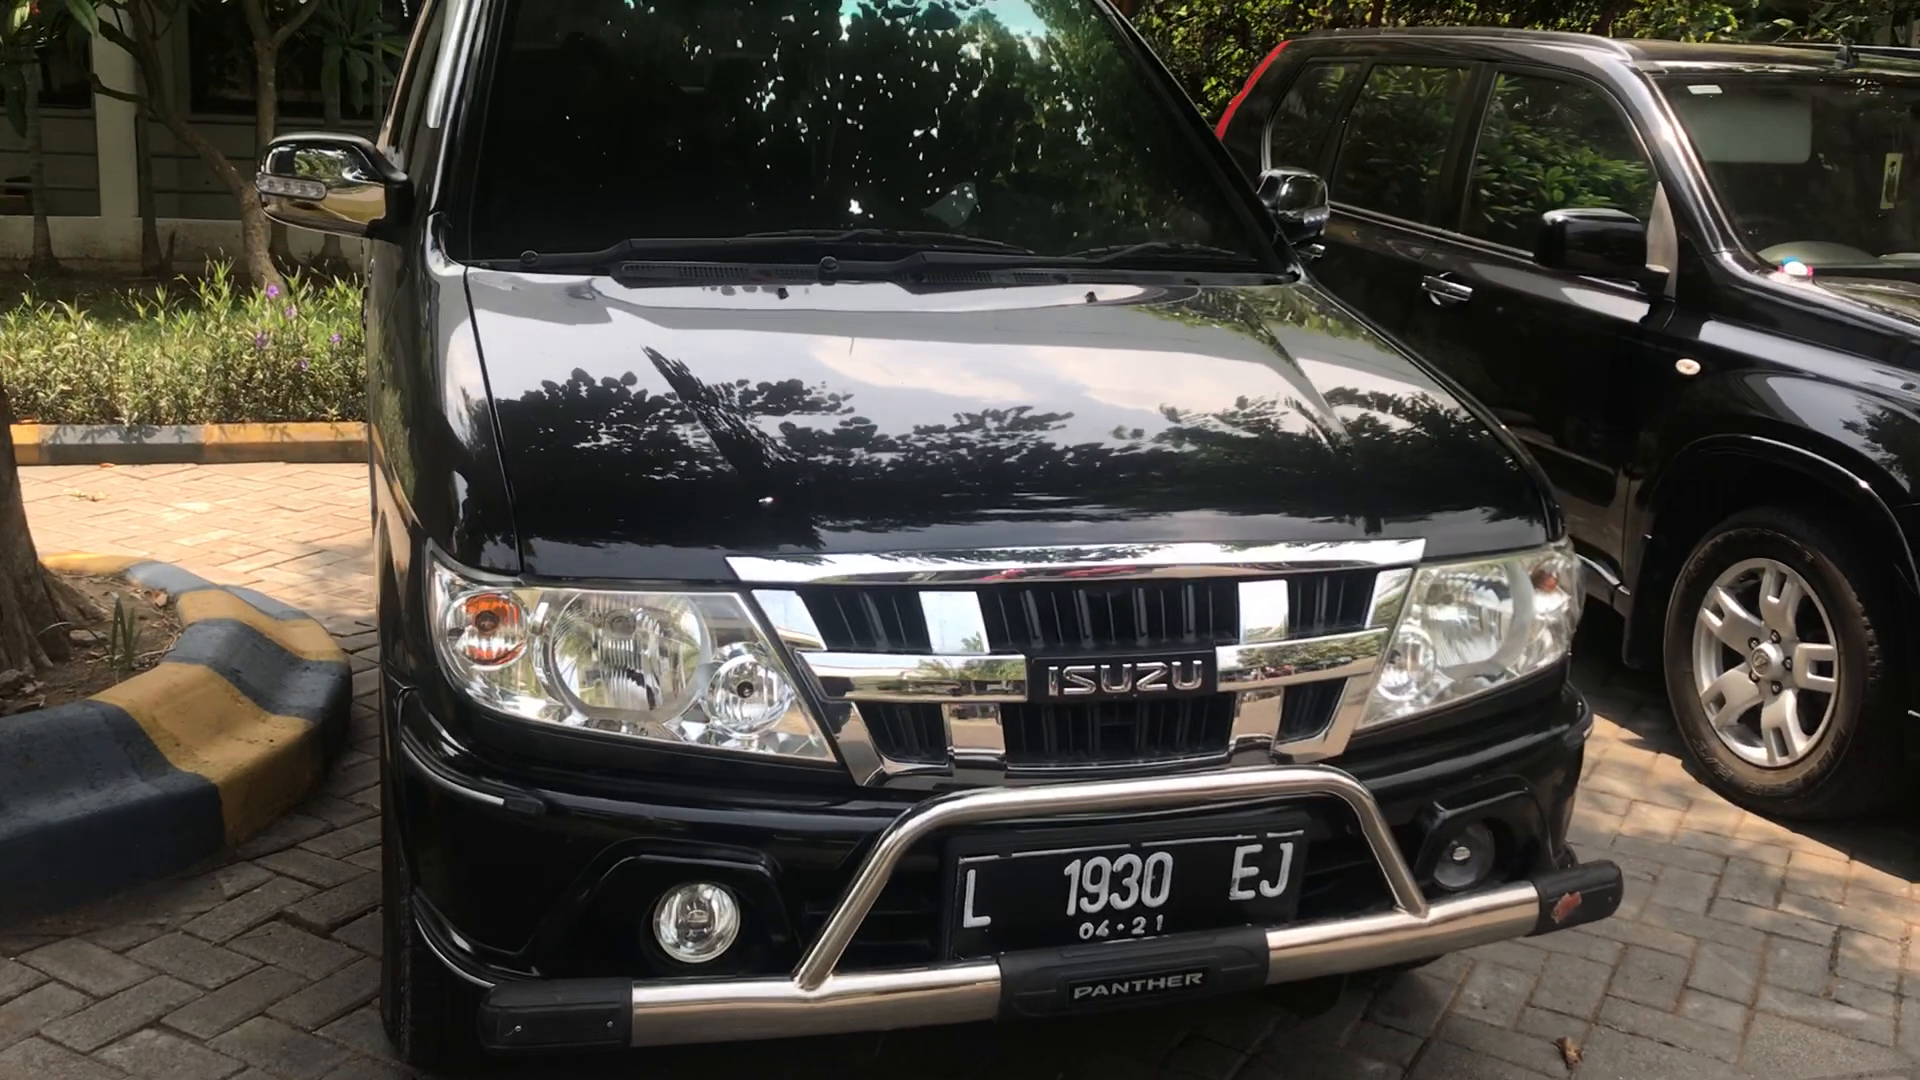plate: (952, 820, 1302, 945)
